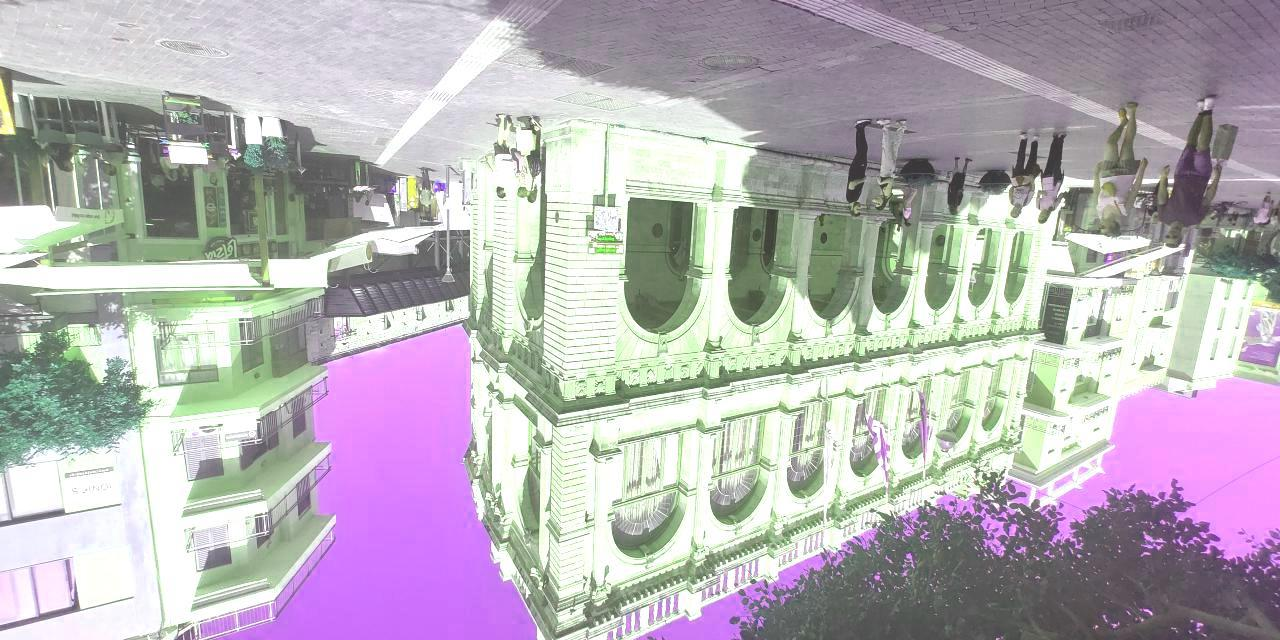Loggia: (462, 115, 1063, 640)
